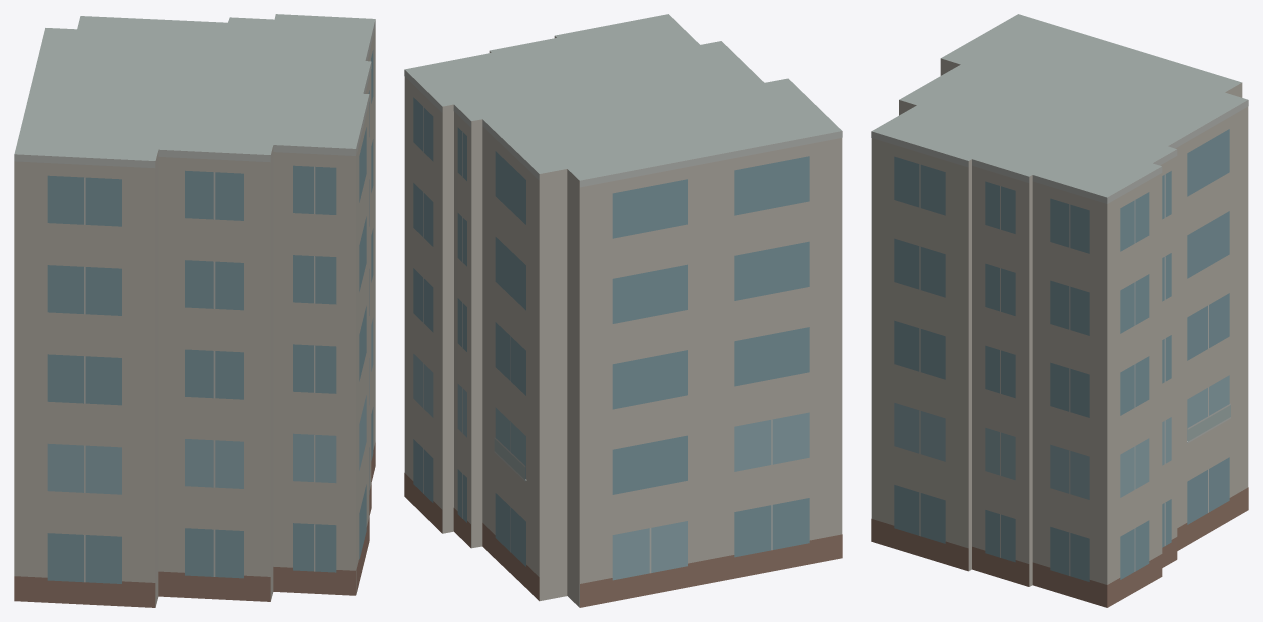
File: survey-upis-32980924.glb
The picture shows the model from 3 angles, left to right: view 1: azimuth 30°, elevation 25°; view 2: azimuth 150°, elevation 25°; view 3: azimuth 270°, elevation 25°; orthographic projection. The views are drawn at different scales.
Parts seen in each view (by area): view 1: survey-upis-32980924.tmp; view 2: survey-upis-32980924.tmp; view 3: survey-upis-32980924.tmp.
Part boxes in pixels (box(x1,y1,x2,y2)): survey-upis-32980924.tmp: box(14, 14, 375, 607); survey-upis-32980924.tmp: box(404, 14, 842, 607); survey-upis-32980924.tmp: box(871, 14, 1248, 607).
Size of the model in its own units: 14.78 by 15.4 by 12.83.
